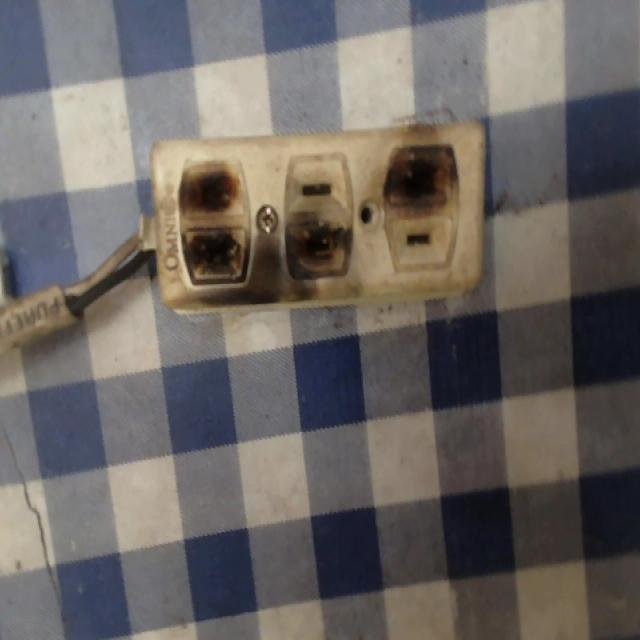-: (167, 147, 264, 305), (370, 130, 465, 222), (280, 214, 359, 290)
